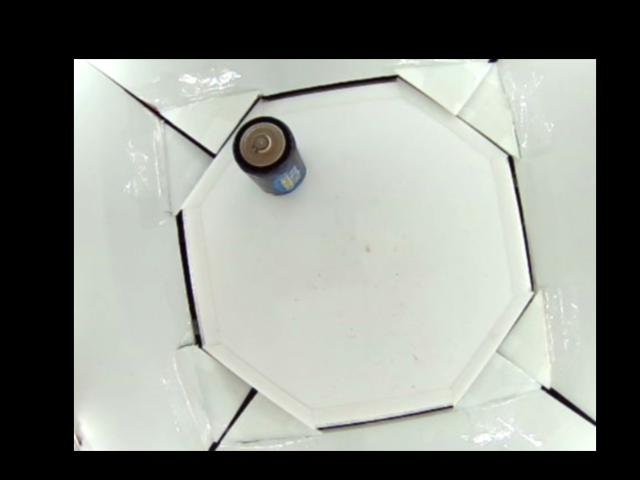Battery: (230, 115, 306, 195)
